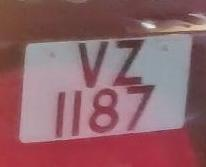1: (48, 84, 75, 146), (66, 84, 92, 145)
7: (120, 83, 158, 135)
8: (85, 84, 124, 139)
V: (75, 38, 112, 90)
Z: (111, 36, 148, 87)
